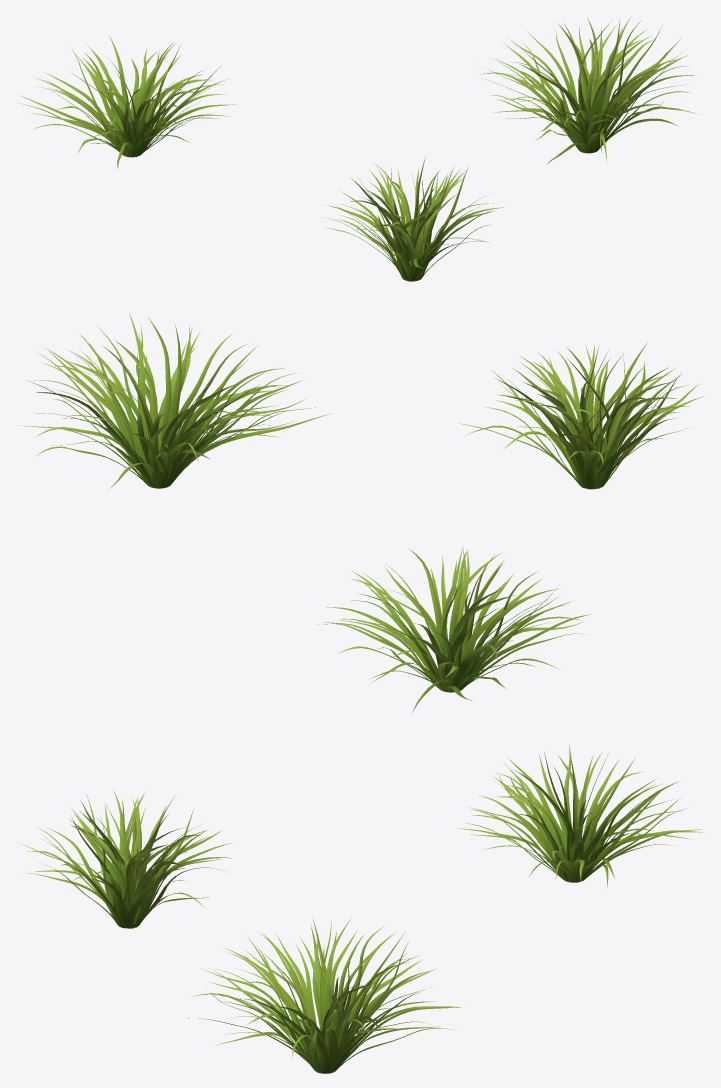
Rendered from Shrub-2.obj.
3 views of the same model, one above another, from view 1: azimuth 30°, elevation 25°; view 2: azimuth 150°, elevation 25°; view 3: azimuth 270°, elevation 25° (orthographic). The views are drawn at different scales.
Visible parts, largest first — view 1: Obj3d66-649063-476-523_网格.013, Obj3d66-649063-475-973_网格.012, Obj3d66-649063-468-362_网格.005; view 2: Obj3d66-649063-476-523_网格.013, Obj3d66-649063-475-973_网格.012, Obj3d66-649063-468-362_网格.005; view 3: Obj3d66-649063-476-523_网格.013, Obj3d66-649063-475-973_网格.012, Obj3d66-649063-468-362_网格.005.
Part boxes in pixels (x1,y1,x2,y2): Obj3d66-649063-476-523_网格.013: [478, 16, 701, 164]; Obj3d66-649063-475-973_网格.012: [18, 36, 236, 168]; Obj3d66-649063-468-362_网格.005: [321, 157, 503, 281]; Obj3d66-649063-476-523_网格.013: [17, 312, 331, 490]; Obj3d66-649063-475-973_网格.012: [318, 546, 591, 712]; Obj3d66-649063-468-362_网格.005: [458, 342, 703, 489]; Obj3d66-649063-476-523_网格.013: [188, 918, 464, 1073]; Obj3d66-649063-475-973_网格.012: [458, 744, 704, 887]; Obj3d66-649063-468-362_网格.005: [20, 789, 232, 928].
Size of the model in its own units: 2.64 by 0.522 by 2.57.
Materials: 3 (3 with a texture image).
